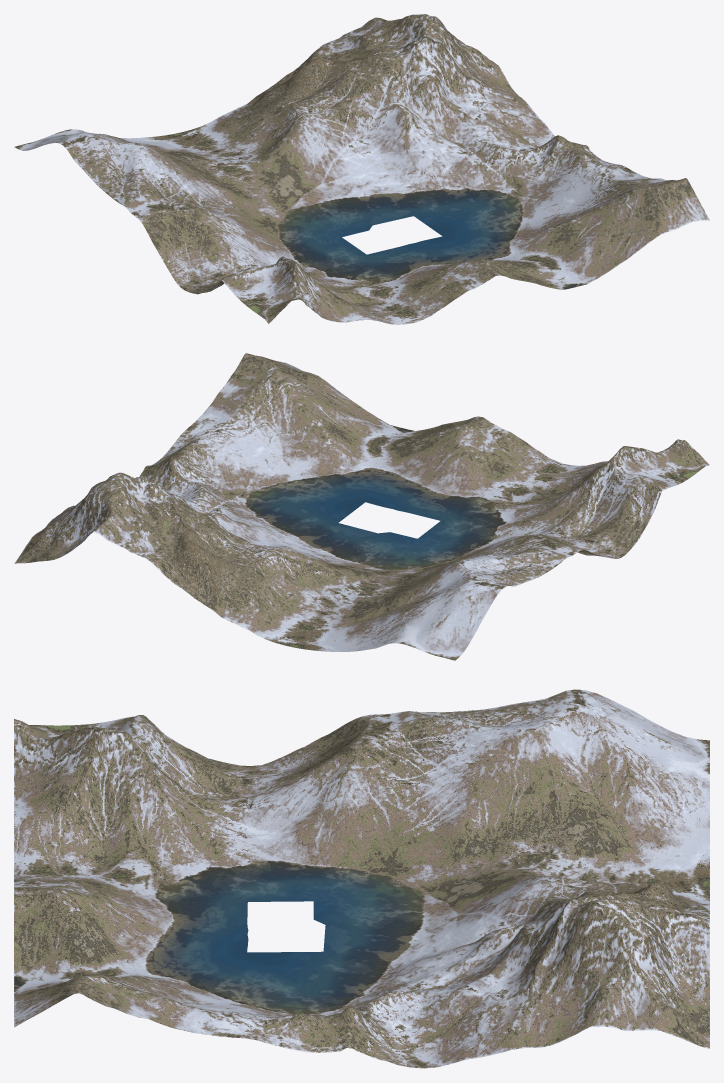
Rendered from 3d_skybox_montain__game-ready.glb.
3 views of the same model, one above another, from view 1: azimuth 30°, elevation 25°; view 2: azimuth 150°, elevation 25°; view 3: azimuth 270°, elevation 25° (orthographic). The views are drawn at different scales.
Visible parts, largest first — view 1: Retopo_Mesh_Material.001_0; view 2: Retopo_Mesh_Material.001_0; view 3: Retopo_Mesh_Material.001_0.
Boxes of the visible parts, x1,y1,x2,y2 form: Retopo_Mesh_Material.001_0: [14, 14, 709, 324]; Retopo_Mesh_Material.001_0: [14, 353, 709, 660]; Retopo_Mesh_Material.001_0: [14, 689, 709, 1068].
Bounding box in the file's own units: 6357 × 1307 × 6357.
1 material, 1 textured.
